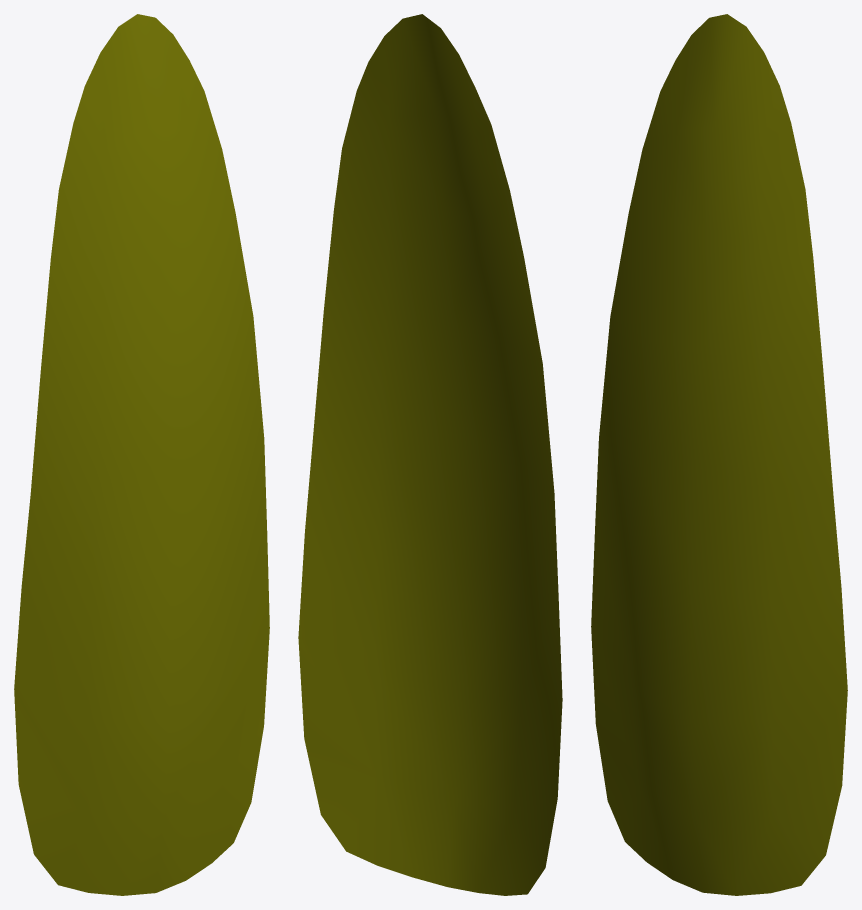
File: MD_nail_point_HandR.Ring.fbx
The picture shows the model from 3 angles, left to right: view 1: azimuth 30°, elevation 25°; view 2: azimuth 150°, elevation 25°; view 3: azimuth 330°, elevation 25°; orthographic projection. The views are drawn at different scales.
Visible parts, largest first — view 1: MD_nail_point_HandR.Ring; view 2: MD_nail_point_HandR.Ring; view 3: MD_nail_point_HandR.Ring.
Boxes of the visible parts, x1,y1,x2,y2 form: MD_nail_point_HandR.Ring: (14, 14, 269, 895); MD_nail_point_HandR.Ring: (298, 14, 562, 895); MD_nail_point_HandR.Ring: (591, 14, 847, 895).
Size of the model in its own units: 0.7183 by 2.31 by 0.1683.
